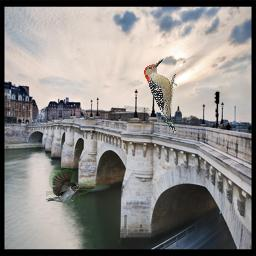Swallow: (46, 169, 110, 203)
Woodpecker: (144, 58, 177, 134)
